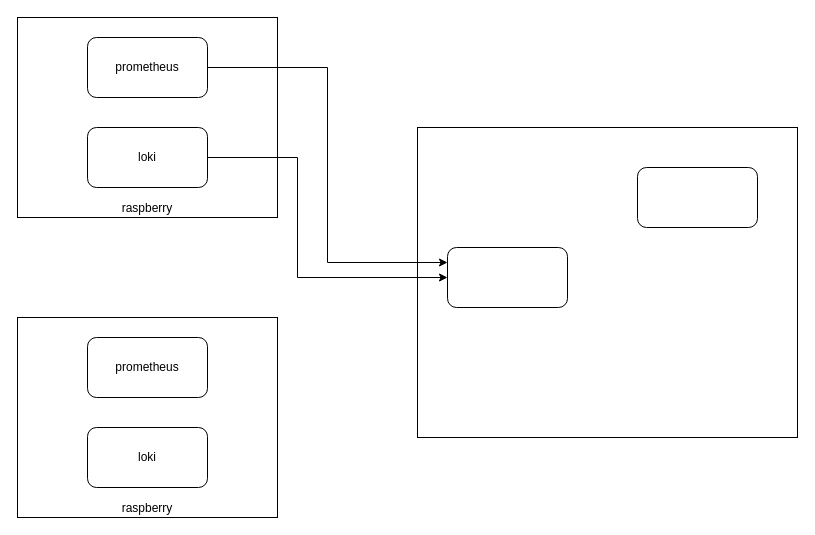
The diagram is 815 pixels wide and 535 high, and some of its shapes have lost their labels. The centre of each missing label's shape, as x and y in pixels:
"grafana" belongs at [697,197].
"nginx" belongs at [507,277].
